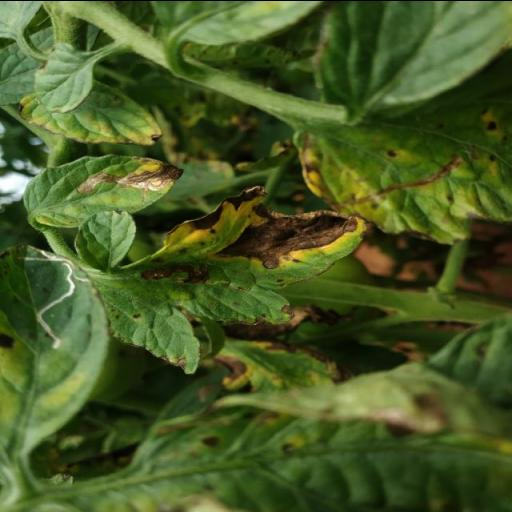disease_tomato: (94, 183, 368, 375), (24, 150, 184, 224)
